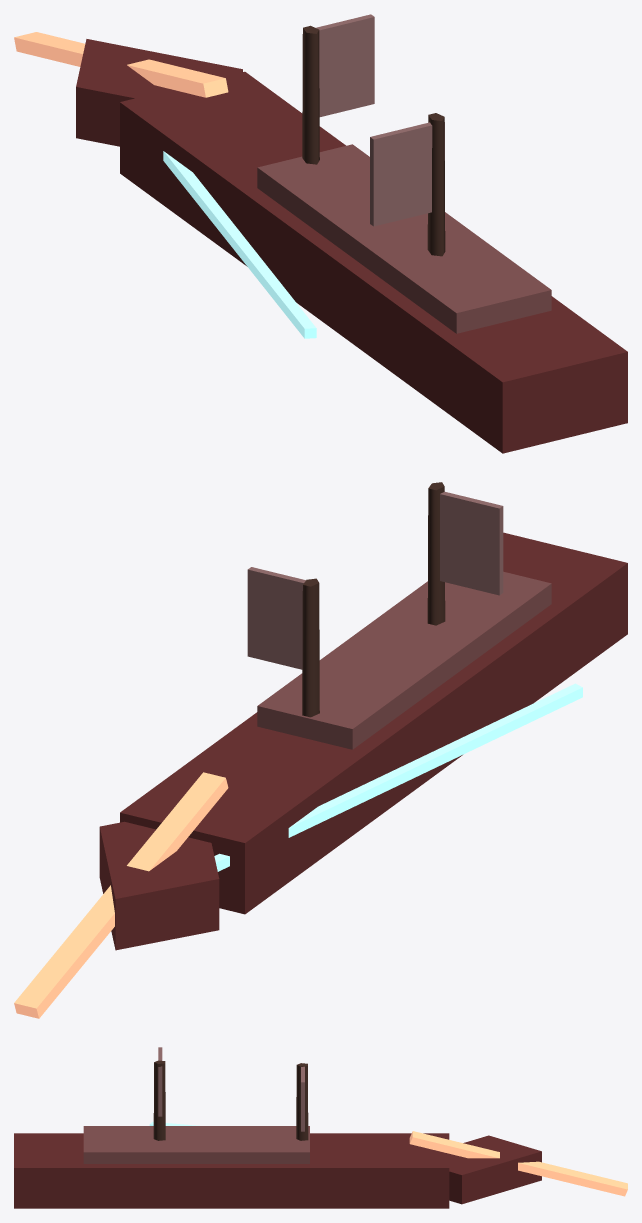
File: ship_main_53_lod2.glb
3 renders of one model, top to bottom at view 1: azimuth 30°, elevation 25°; view 2: azimuth 150°, elevation 25°; view 3: azimuth 270°, elevation 25°, orthographic. The views are drawn at different scales.
Parts seen in each view (by area): view 1: Hull, Deck_0, Bow, Sail_1, Sail_0, AsymmetricPortBlade, ProwIdentity, Mast_0, Mast_1; view 2: Hull, Deck_0, Bow, ProwIdentity, Sail_1, AsymmetricPortBlade, Sail_0, Mast_0, Mast_1; view 3: Hull, Deck_0, Bow, ProwIdentity, Mast_1, Mast_0, Sail_1, Sail_0.
Part boxes in pixels (box(x1,y1,x2,y2)): Hull: box(120, 71, 627, 453); Deck_0: box(257, 144, 551, 333); Bow: box(76, 39, 242, 146); Sail_1: box(370, 122, 444, 226); Sail_0: box(316, 14, 374, 116); AsymmetricPortBlade: box(163, 151, 316, 338); ProwIdentity: box(14, 32, 228, 97); Mast_0: box(302, 25, 319, 164); Mast_1: box(427, 113, 445, 256); Hull: box(120, 532, 627, 914); Deck_0: box(257, 571, 551, 749); Bow: box(99, 821, 219, 950); ProwIdentity: box(14, 772, 228, 1018); Sail_1: box(440, 492, 503, 595); AsymmetricPortBlade: box(214, 683, 582, 871); Sail_0: box(247, 567, 305, 669); Mast_0: box(302, 578, 319, 717); Mast_1: box(427, 482, 445, 625); Hull: box(14, 1133, 449, 1208); Deck_0: box(83, 1126, 309, 1163); Bow: box(449, 1135, 541, 1204); ProwIdentity: box(409, 1131, 627, 1196); Mast_1: box(153, 1060, 165, 1140); Mast_0: box(296, 1063, 308, 1140); Sail_1: box(158, 1047, 162, 1116); Sail_0: box(301, 1066, 304, 1131).
Size of the model in its own units: 2.14 by 2.24 by 9.49.
